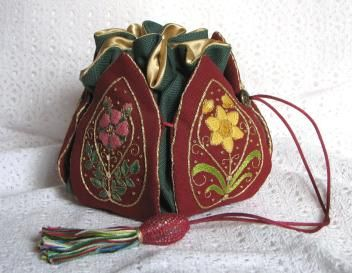cuero: (56, 32, 273, 214)
